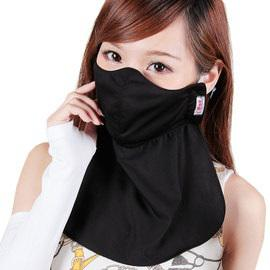OK: (95, 22, 195, 145)
